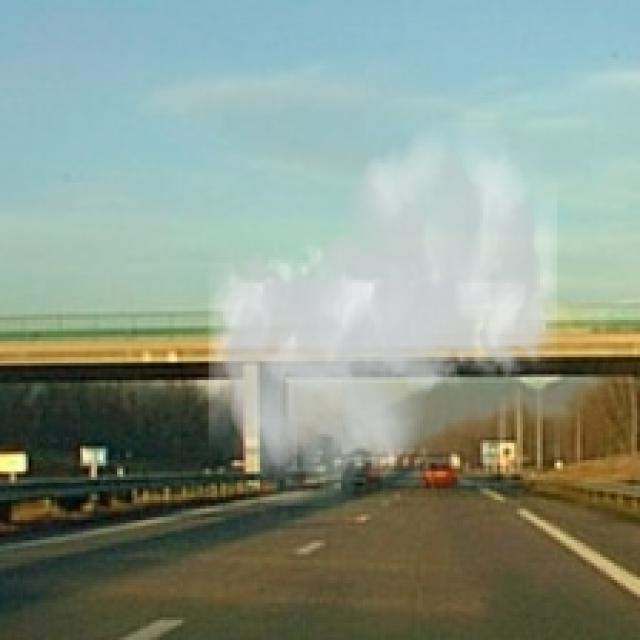Smoke: (208, 123, 558, 506)
